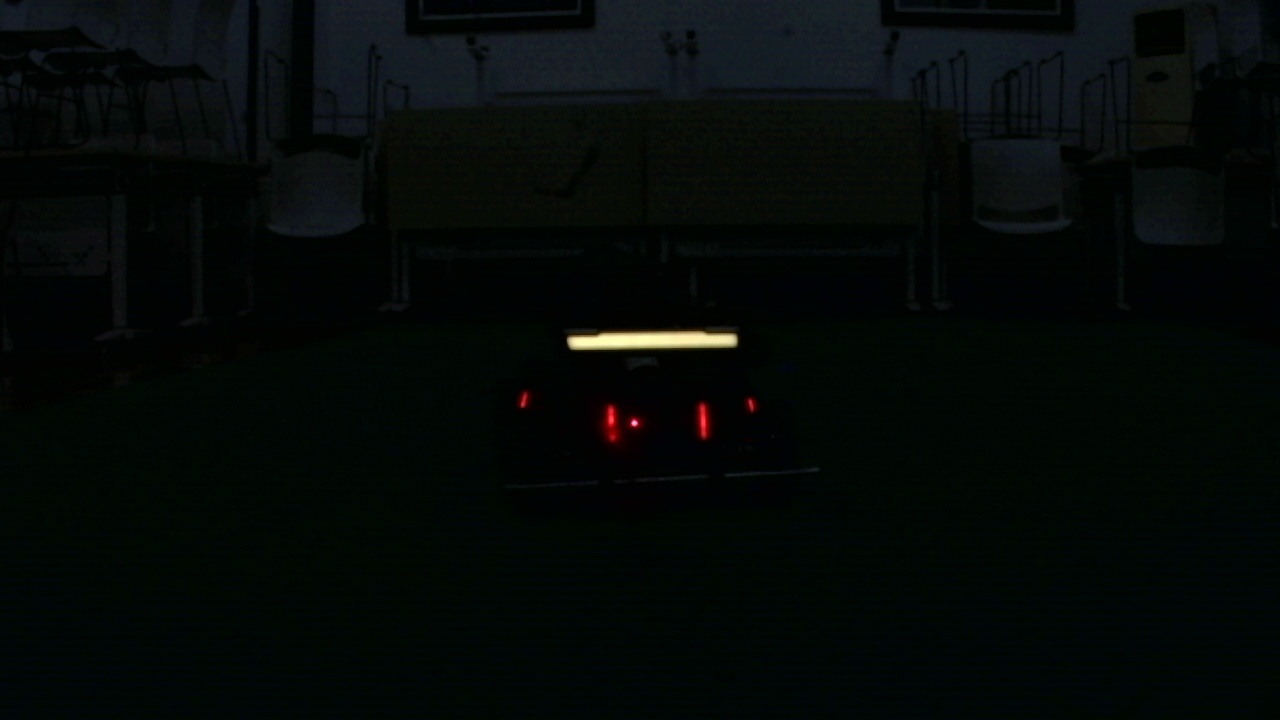lamp: (693, 399, 714, 444), (605, 400, 621, 444)
pair1: (606, 408, 711, 442)
